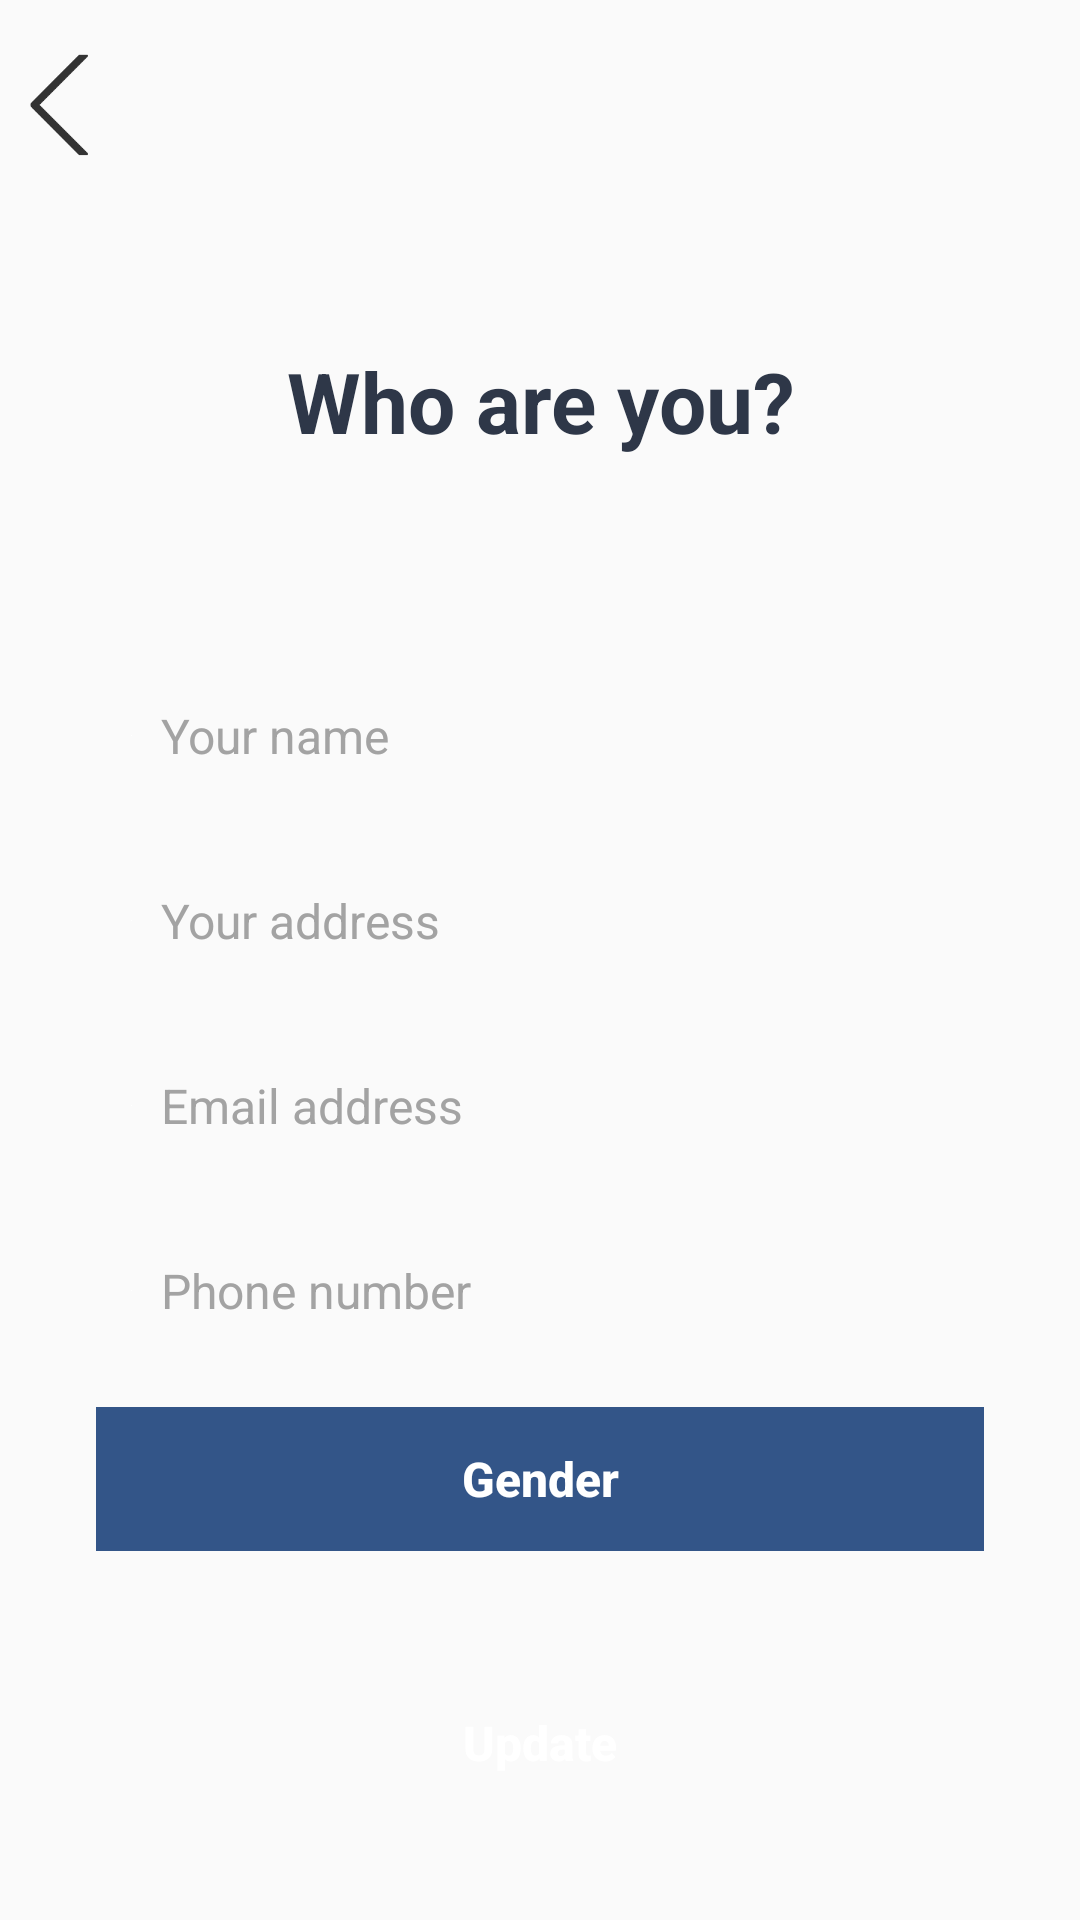

Screen size 1080 × 1920. Icon name, then its center in pixels as [x,y]:
back: [59,104]
